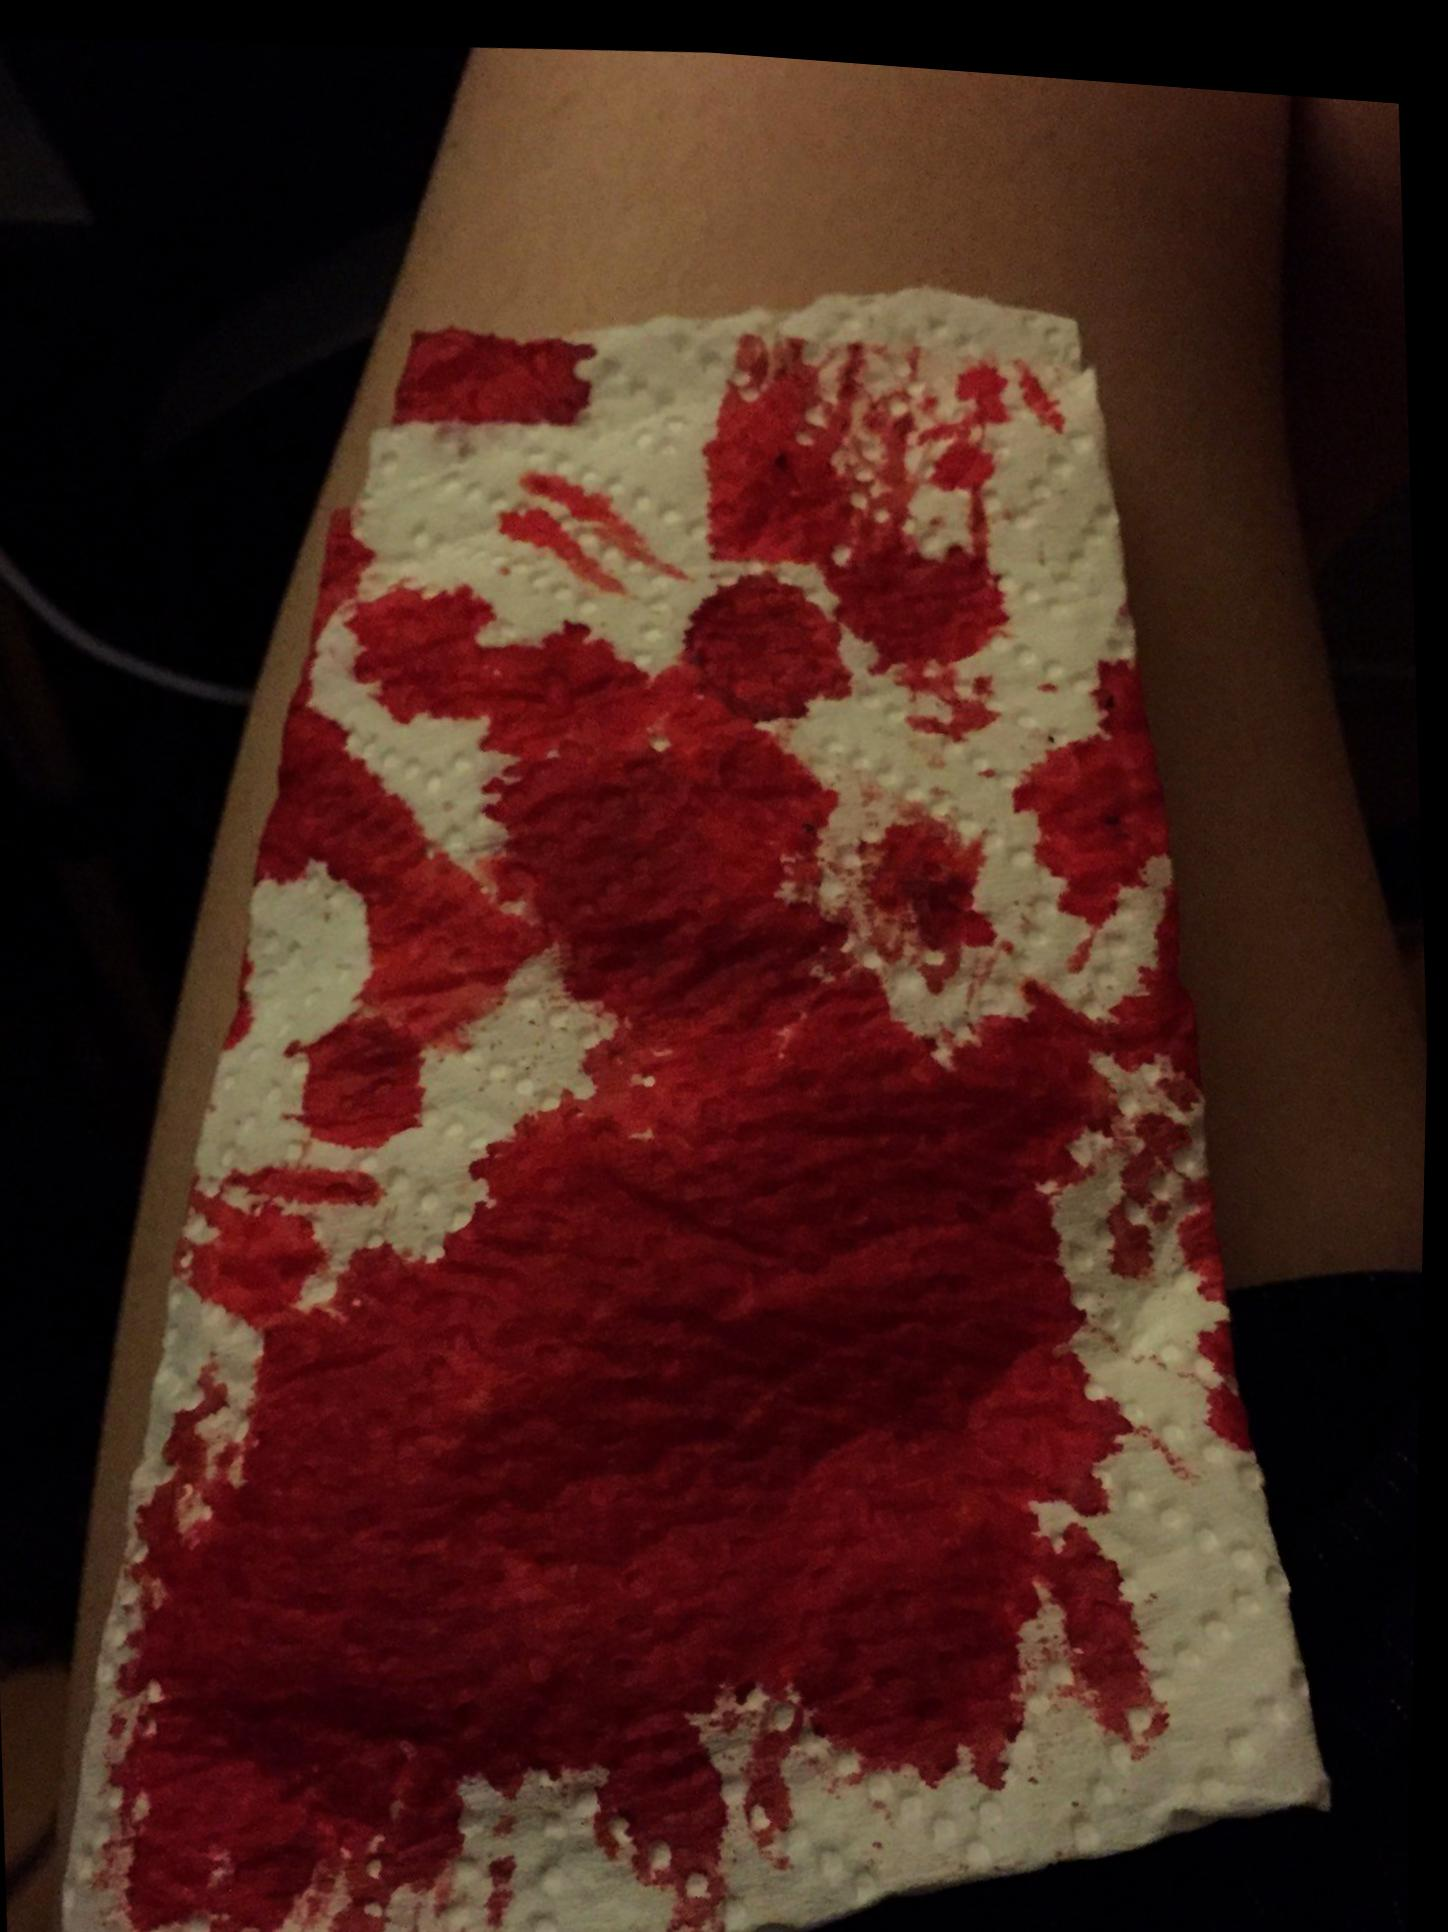Fire: (75, 277, 1332, 1932)
